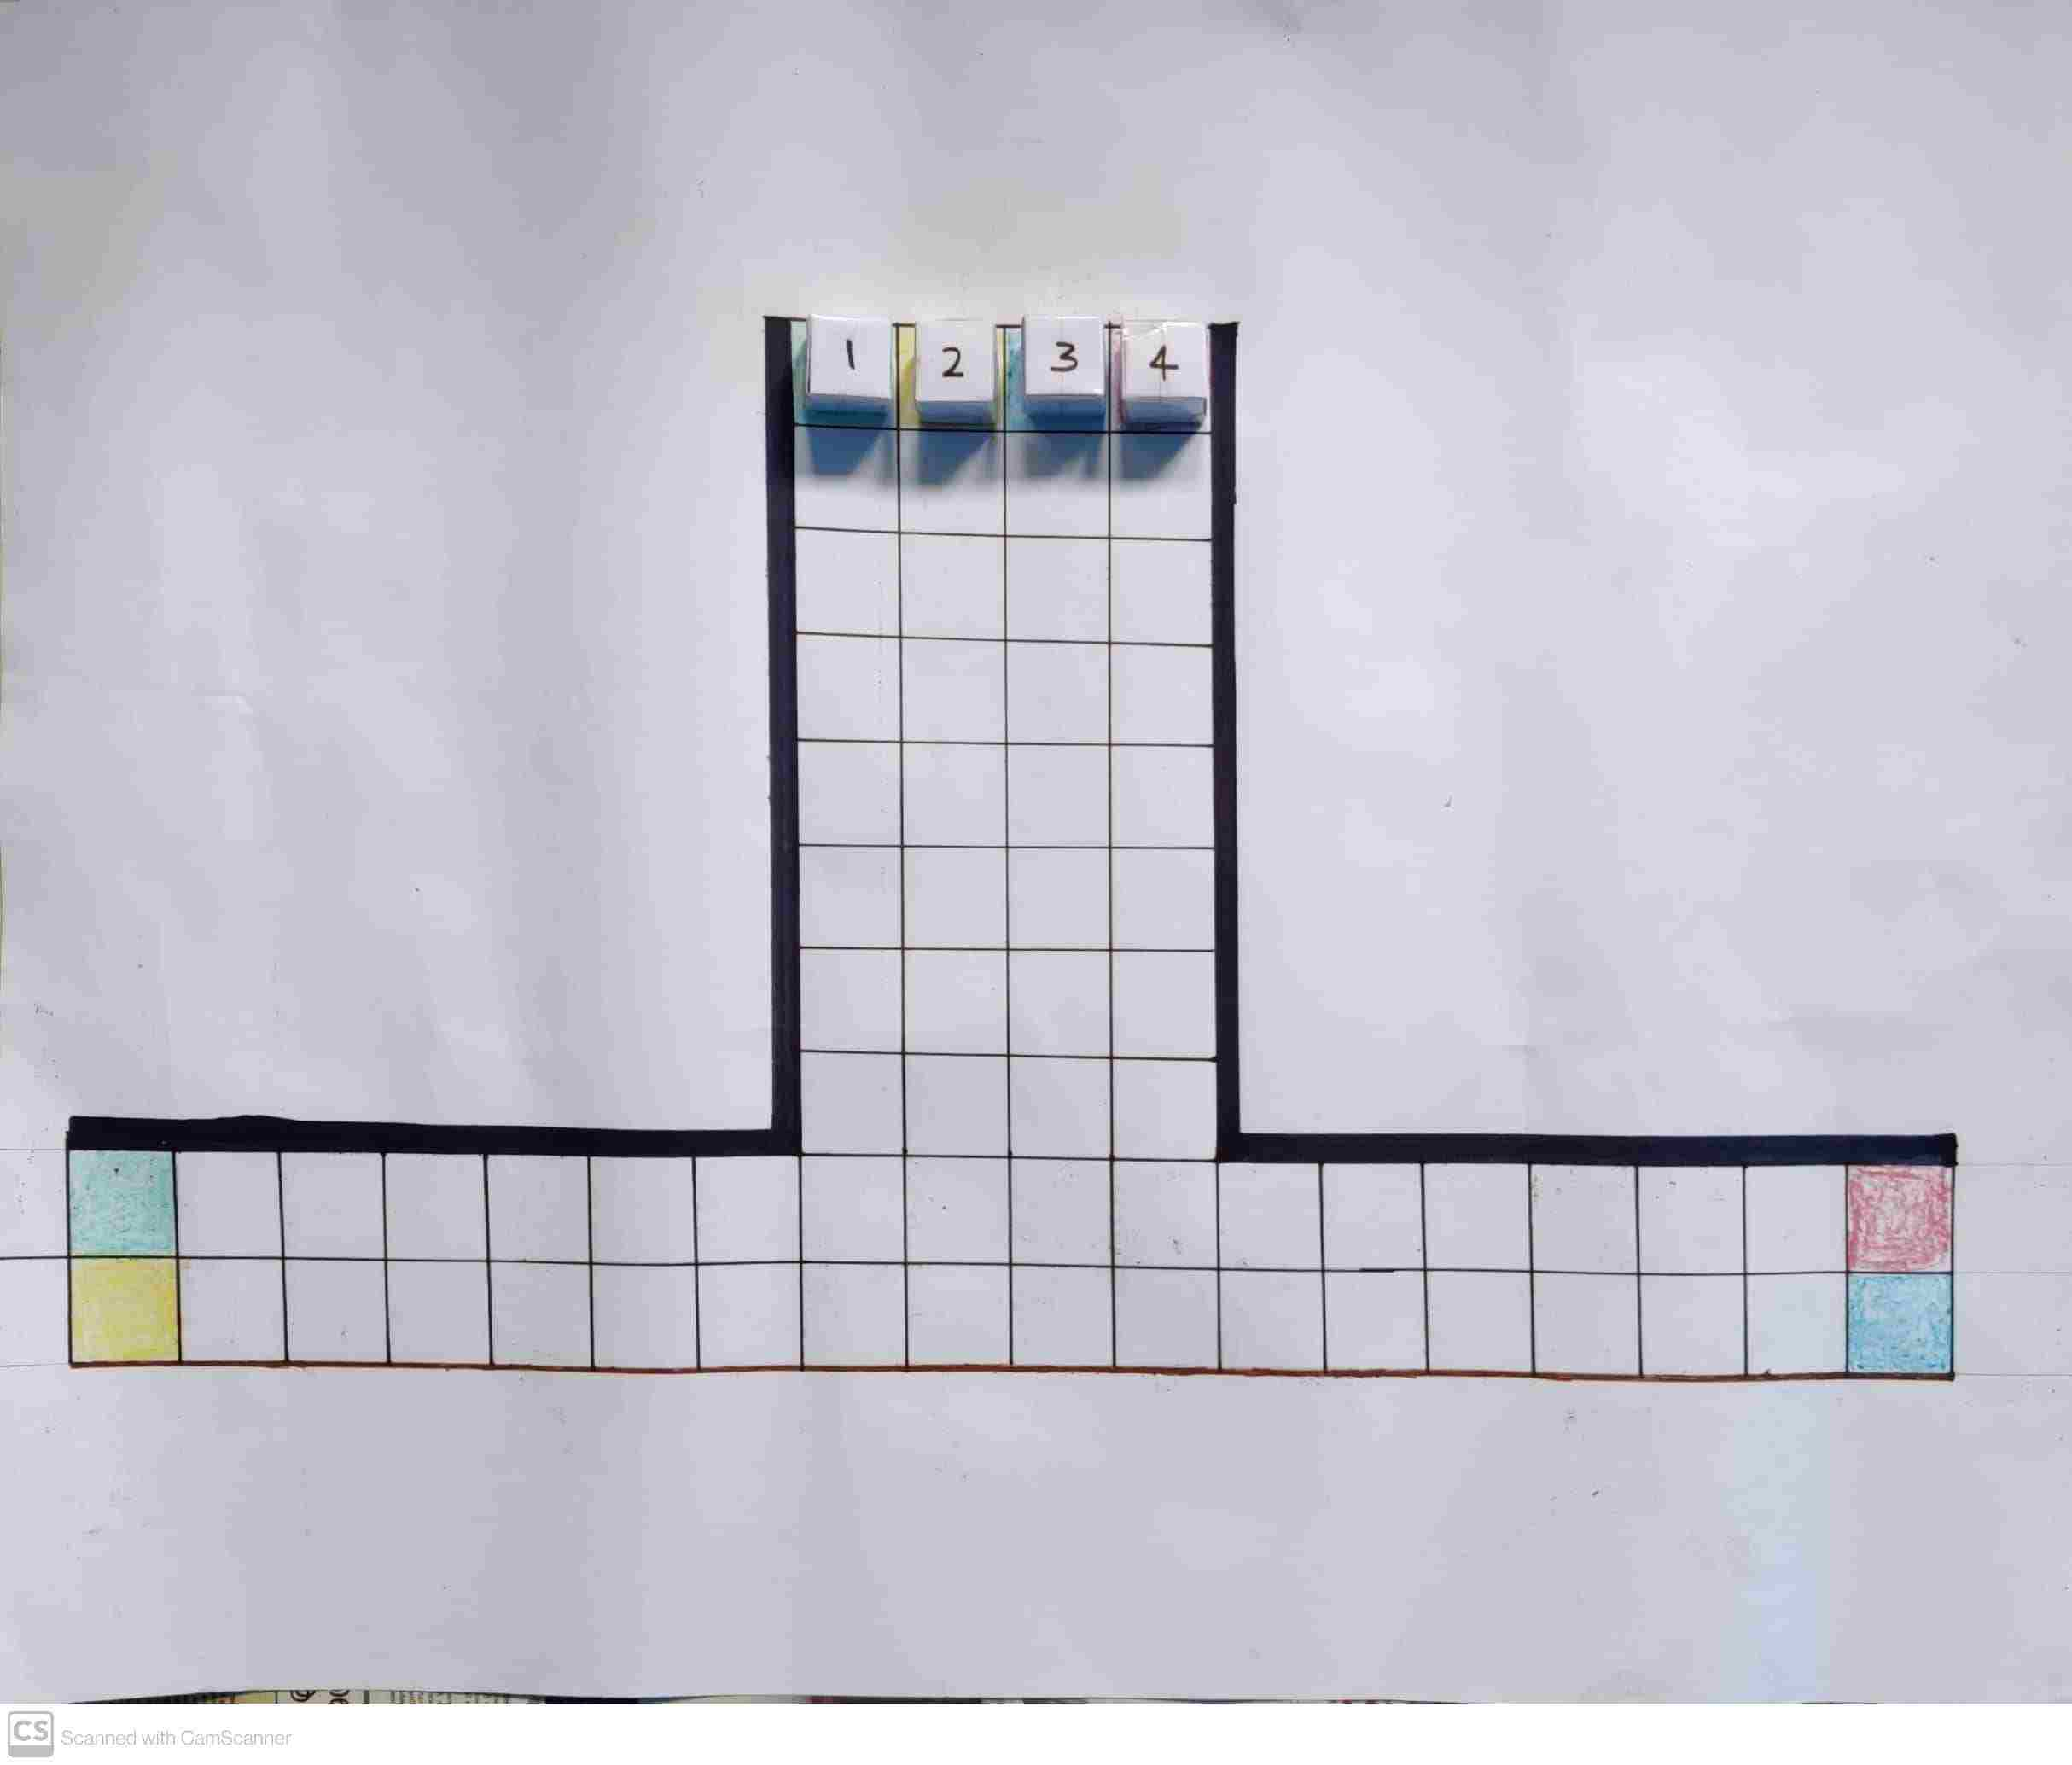arena: (68, 315, 1963, 1375)
bot: (915, 313, 994, 401), (1116, 324, 1202, 401), (814, 320, 893, 401), (1022, 313, 1101, 390)
